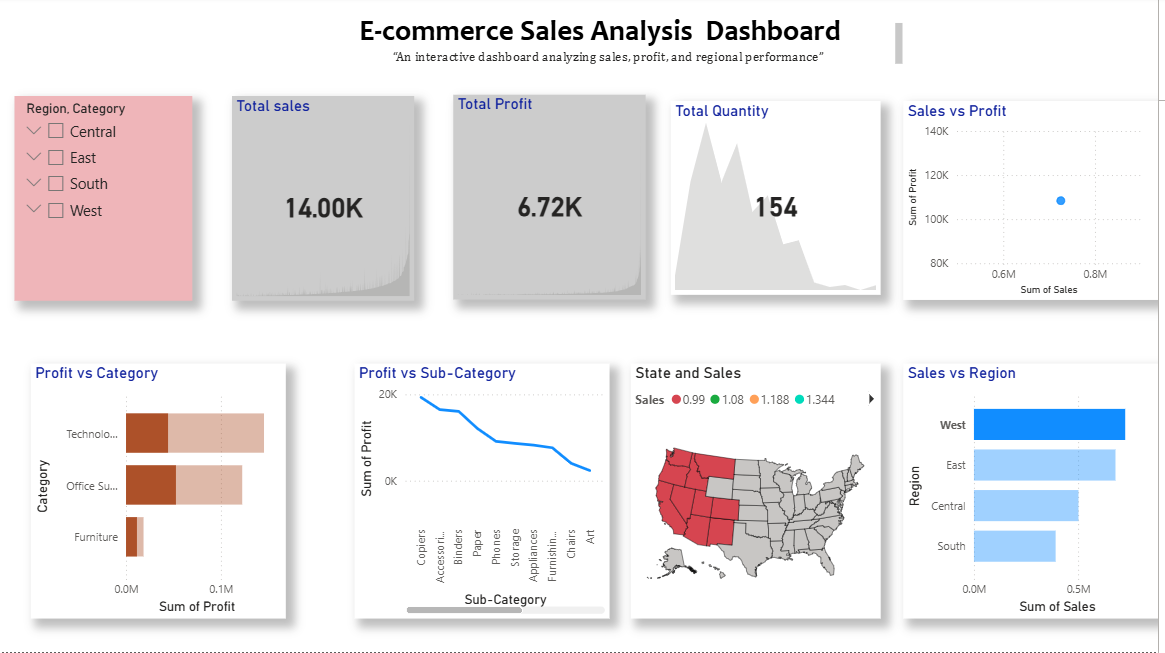

The page's visual inventory and layout, read from the dashboard file:
{"tool":"powerbi","page":{"name":"Page 1","canvas":[1280,720],"ordinal":0},"visuals":[{"type":"clusteredBarChart","title":" Sales vs Region","fields":{"Y":["Sum(SampleSuperstore csv zip.Sales)"],"Category":["SampleSuperstore csv zip.Region"]},"box":[1000.3,403.4,279.9,279.9],"z":0},{"type":"clusteredBarChart","title":" Profit vs Category","fields":{"Y":["Sum(SampleSuperstore csv zip.Profit)"],"Category":["SampleSuperstore csv zip.Category"]},"box":[43,404,280,280],"z":1000},{"type":"scatterChart","title":"Sales vs Profit","fields":{"X":["Sum(SampleSuperstore csv zip.Sales)"],"Y":["Sum(SampleSuperstore csv zip.Profit)"]},"box":[1000.3,115.3,279.9,218.2],"z":2000},{"type":"lineChart","title":"Profit vs Sub-Category","fields":{"Category":["SampleSuperstore csv zip.Sub-Category"],"Y":["Sum(SampleSuperstore csv zip.Profit)"]},"box":[398,404,280,280],"z":3000},{"type":"kpi","title":"Total sales","fields":{"TrendLine":["SampleSuperstore csv zip.Sales"],"Indicator":["Sum(SampleSuperstore csv zip.Sales)"]},"box":[263.5,109.8,200.3,225],"z":4000},{"type":"kpi","title":"Total  Profit","fields":{"Indicator":["Sum(SampleSuperstore csv zip.Profit)"],"TrendLine":["SampleSuperstore csv zip.Profit"]},"box":[506.3,108.4,211.3,225],"z":5000},{"type":"textbox","box":[397.9,19.2,606.5,60.4],"z":6000},{"type":"shapeMap","fields":{"Category":["SampleSuperstore csv zip.State"],"Series":["SampleSuperstore csv zip.Sales"]},"box":[701.2,403.4,274.4,279.9],"z":7000},{"type":"kpi","title":"Total Quantity","fields":{"Indicator":["Sum(SampleSuperstore csv zip.Quantity)"],"TrendLine":["SampleSuperstore csv zip.Quantity"]},"box":[745.1,115.3,230.5,212.7],"z":8000},{"type":"slicer","fields":{"Values":["SampleSuperstore csv zip.Region","SampleSuperstore csv zip.Category"]},"box":[24.7,109.8,194.9,225],"z":9000}]}

Visuals, with their boxes in screenshot pixels (x1, y1, x2, y2), scaled from the page's 1280x720 canvas onto the 1165x653 screenshot:
" Sales vs Region" clusteredBarChart: box=[910, 366, 1164, 620]
" Profit vs Category" clusteredBarChart: box=[39, 366, 294, 620]
"Sales vs Profit" scatterChart: box=[910, 105, 1164, 302]
"Profit vs Sub-Category" lineChart: box=[362, 366, 617, 620]
"Total sales" kpi: box=[240, 100, 422, 304]
"Total  Profit" kpi: box=[461, 98, 653, 302]
textbox: box=[362, 17, 914, 72]
shapeMap - SampleSuperstore csv zip.State x SampleSuperstore csv zip.Sales: box=[638, 366, 888, 620]
"Total Quantity" kpi: box=[678, 105, 888, 297]
slicer - SampleSuperstore csv zip.Region x SampleSuperstore csv zip.Category: box=[22, 100, 200, 304]
